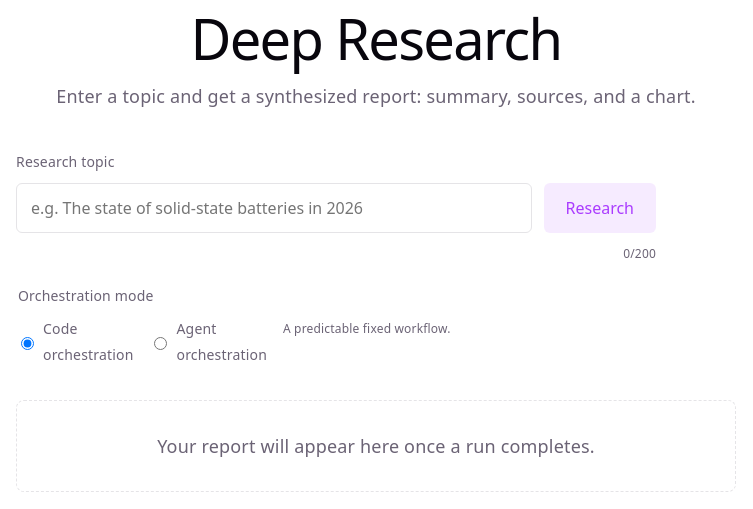
clarification flow › preserves the question form after a clarification failure
In the field labelled "Research topic": (274, 208) [16, 183, 532, 233], type "topic"
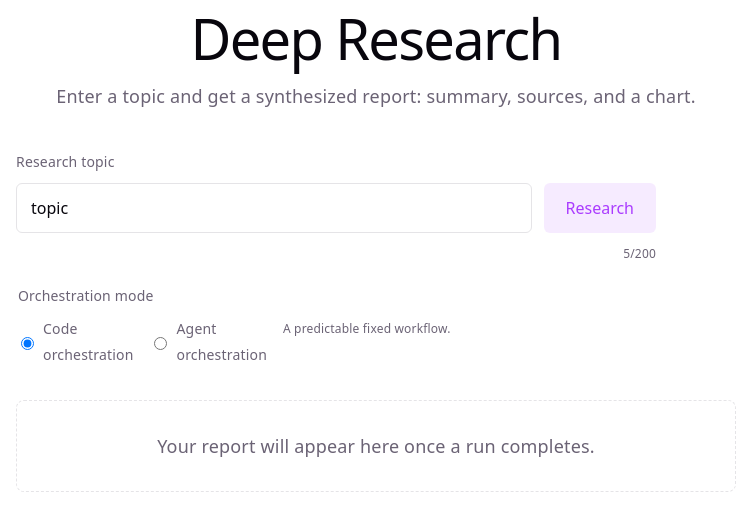
Click the button "Research": (600, 208) [544, 183, 656, 233]
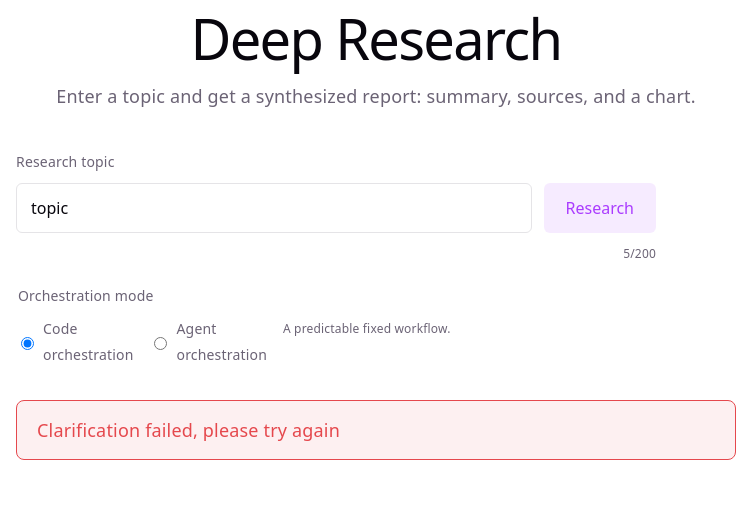
Expected: the message reads "Clarification failed, please try again", [37, 418, 340, 442]
